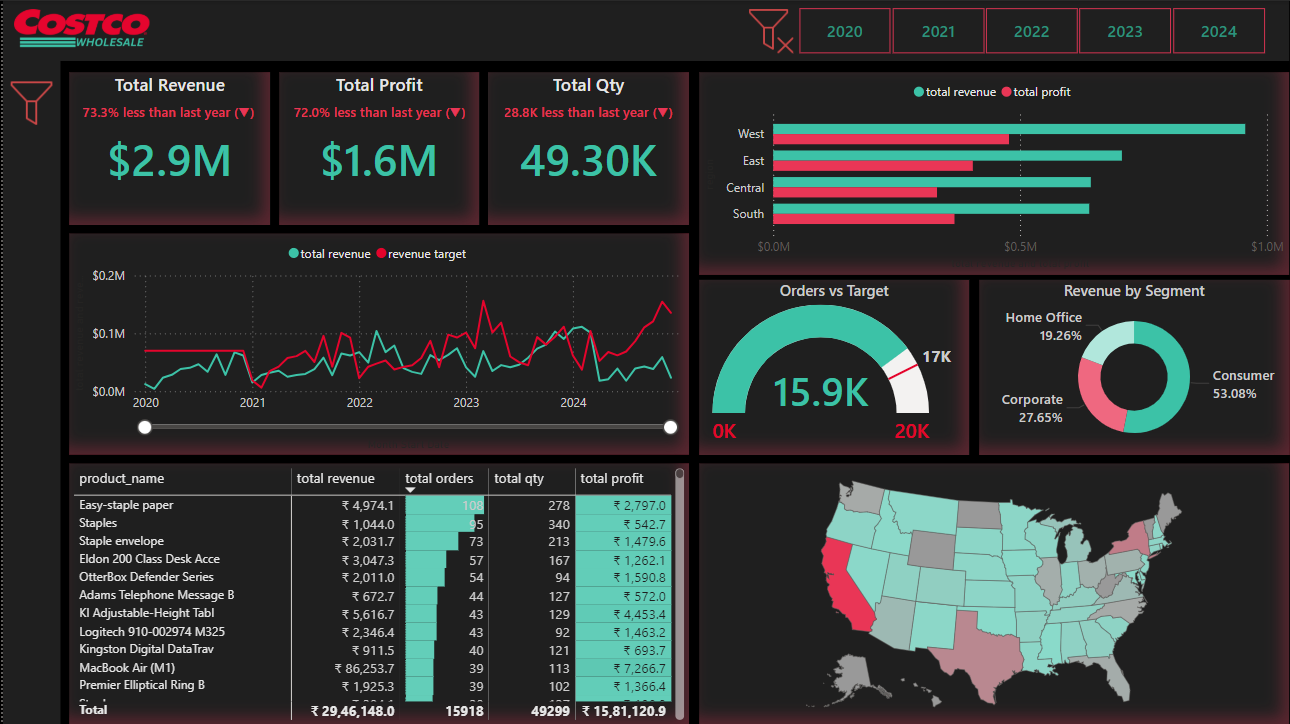

The page's visual inventory and layout, read from the dashboard file:
{"tool":"powerbi","page":{"name":"Page 1","canvas":[1280,720],"ordinal":0},"visuals":[{"type":"shape","box":[0,0,1280,59.7],"z":0},{"type":"shape","box":[0,59.7,57.2,660.5],"z":1000},{"type":"image","box":[0,0,156.7,59.7],"z":2000},{"type":"card","title":"Total Revenue","fields":{"Values":["measures_table.total revenue"]},"box":[65.4,71,200.3,151.7],"z":3000},{"type":"card","title":"Total Profit","fields":{"Values":["measures_table.total profit"]},"box":[274.9,70.9,199,151.8],"z":4000},{"type":"card","title":"Total Qty","fields":{"Values":["measures_table.total qty"]},"box":[482.7,70.9,200.3,151.8],"z":5000},{"type":"clusteredBarChart","fields":{"Category":["customers.region"],"Y":["measures_table.total revenue","measures_table.total profit"]},"box":[693.2,71.2,587.1,201.5],"z":6000},{"type":"lineChart","fields":{"Category":["date_table.Month Start Date"],"Y":["measures_table.total revenue","measures_table.revenue target"]},"box":[65.9,231.4,617,220.2],"z":7000},{"type":"gauge","title":"Orders vs Target","fields":{"Y":["measures_table.total orders"],"TargetValue":["measures_table.target orders"]},"box":[692.9,277.4,268.7,174.2],"z":8000},{"type":"donutChart","title":"Revenue by Segment","fields":{"Category":["customers.segment"],"Y":["measures_table.total revenue"]},"box":[971.5,277.4,308.5,174.2],"z":9000},{"type":"shapeMap","fields":{"Category":["customers.state"],"Value":["measures_table.total revenue"]},"box":[692.9,460.3,587.1,260],"z":10000},{"type":"pivotTable","fields":{"Rows":["products.product_name"],"Values":["measures_table.total revenue","measures_table.total orders","measures_table.total qty","measures_table.total profit"]},"box":[65.9,460.3,617,260],"z":11000},{"type":"slicer","fields":{"Values":["date_table.Year"]},"box":[766.4,0,513.3,59.3],"z":12000},{"type":"image","title":"Clear Filter Button","box":[737.7,0,53.5,59.7],"z":13000},{"type":"image","title":"Open Filter Pane Button","box":[0,70.9,57.2,61],"z":14000},{"type":"group","id":"g1","title":"Kpi card up and Down","box":[64.7,94.5,618.2,37.3],"z":14500},{"type":"card","fields":{"Values":["measures_table.kpi revenue YOY"]},"box":[64.7,94.5,200.3,37.3],"z":16000,"group":"g1"},{"type":"card","fields":{"Values":["measures_table.kpi profit YOY"]},"box":[274.9,94.5,200.3,37.3],"z":17000,"group":"g1"},{"type":"card","fields":{"Values":["measures_table.kpi qty YOY"]},"box":[482.7,94.5,200.3,37.3],"z":18000,"group":"g1"}]}

Visuals, with their boxes in screenshot pixels (x1, y1, x2, y2), scaled from the page's 1280x720 canvas onto the 1290x724 screenshot:
shape: {"x1": 0, "y1": 0, "x2": 1289, "y2": 60}
shape: {"x1": 0, "y1": 60, "x2": 58, "y2": 723}
image: {"x1": 0, "y1": 0, "x2": 158, "y2": 60}
"Total Revenue" card: {"x1": 66, "y1": 71, "x2": 268, "y2": 224}
"Total Profit" card: {"x1": 277, "y1": 71, "x2": 478, "y2": 224}
"Total Qty" card: {"x1": 486, "y1": 71, "x2": 688, "y2": 224}
clusteredBarChart - customers.region x measures_table.total revenue: {"x1": 699, "y1": 72, "x2": 1289, "y2": 274}
lineChart - date_table.Month Start Date x measures_table.total revenue: {"x1": 66, "y1": 233, "x2": 688, "y2": 454}
"Orders vs Target" gauge: {"x1": 698, "y1": 279, "x2": 969, "y2": 454}
"Revenue by Segment" donutChart: {"x1": 979, "y1": 279, "x2": 1289, "y2": 454}
shapeMap - customers.state x measures_table.total revenue: {"x1": 698, "y1": 463, "x2": 1289, "y2": 723}
pivotTable - products.product_name x measures_table.total revenue: {"x1": 66, "y1": 463, "x2": 688, "y2": 723}
slicer - date_table.Year: {"x1": 772, "y1": 0, "x2": 1289, "y2": 60}
"Clear Filter Button" image: {"x1": 743, "y1": 0, "x2": 797, "y2": 60}
"Open Filter Pane Button" image: {"x1": 0, "y1": 71, "x2": 58, "y2": 133}
"Kpi card up and Down" group: {"x1": 65, "y1": 95, "x2": 688, "y2": 133}
card - measures_table.kpi revenue YOY: {"x1": 65, "y1": 95, "x2": 267, "y2": 133}
card - measures_table.kpi profit YOY: {"x1": 277, "y1": 95, "x2": 479, "y2": 133}
card - measures_table.kpi qty YOY: {"x1": 486, "y1": 95, "x2": 688, "y2": 133}
